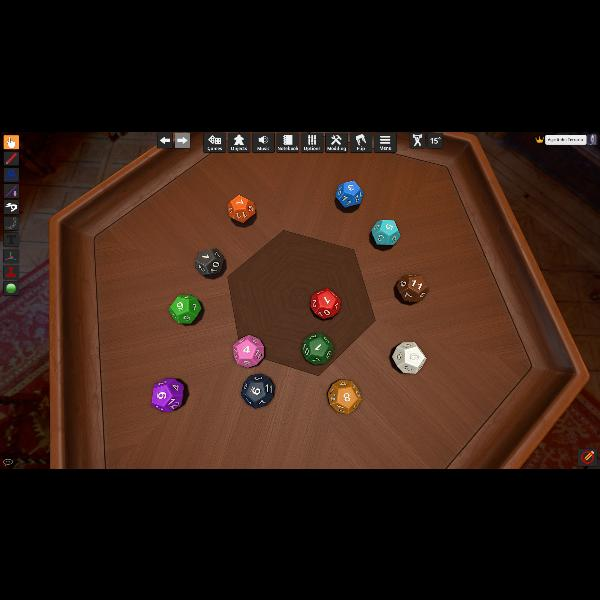d12: (326, 378, 360, 414), (241, 372, 275, 408), (392, 340, 426, 373), (152, 378, 185, 412), (169, 294, 203, 325), (234, 334, 264, 364), (310, 289, 338, 320), (396, 274, 426, 302), (228, 193, 256, 223), (304, 331, 332, 361), (194, 248, 224, 276), (370, 218, 398, 246), (335, 179, 361, 208)
